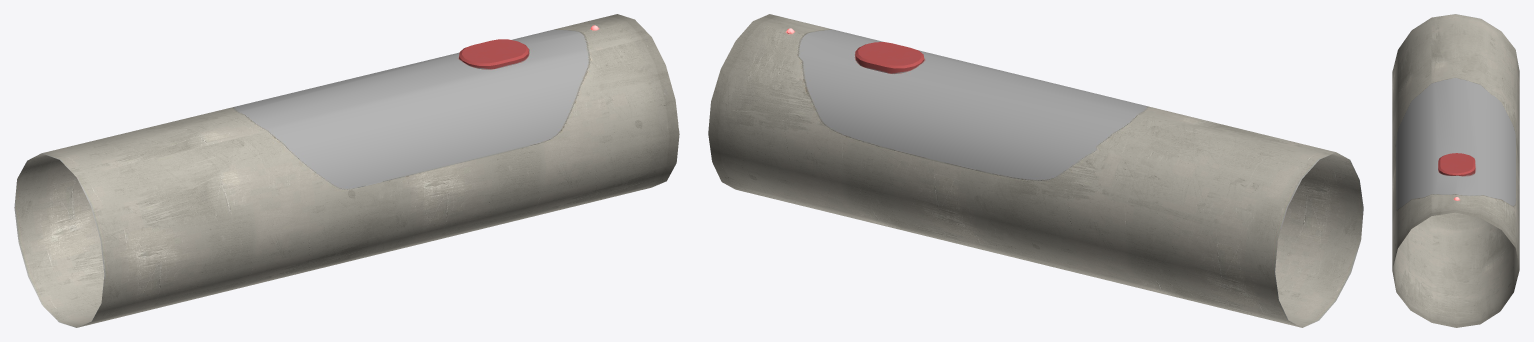
Rendered from grip_12_c_d.glb.
3 views of the same model, side by side, from view 1: azimuth 30°, elevation 25°; view 2: azimuth 150°, elevation 25°; view 3: azimuth 270°, elevation 25° (orthographic). The views are drawn at different scales.
Visible parts, largest first — view 1: grip_12_c_d_lod0; view 2: grip_12_c_d_lod0; view 3: grip_12_c_d_lod0.
Part boxes in pixels (box(x1,y1,x2,y2)): grip_12_c_d_lod0: box(14, 14, 679, 327); grip_12_c_d_lod0: box(708, 14, 1363, 327); grip_12_c_d_lod0: box(1392, 14, 1519, 327).
Size of what is drawn, in the model's own units: 0.1058 by 0.0291 by 0.0286.
1 material, 1 textured.
